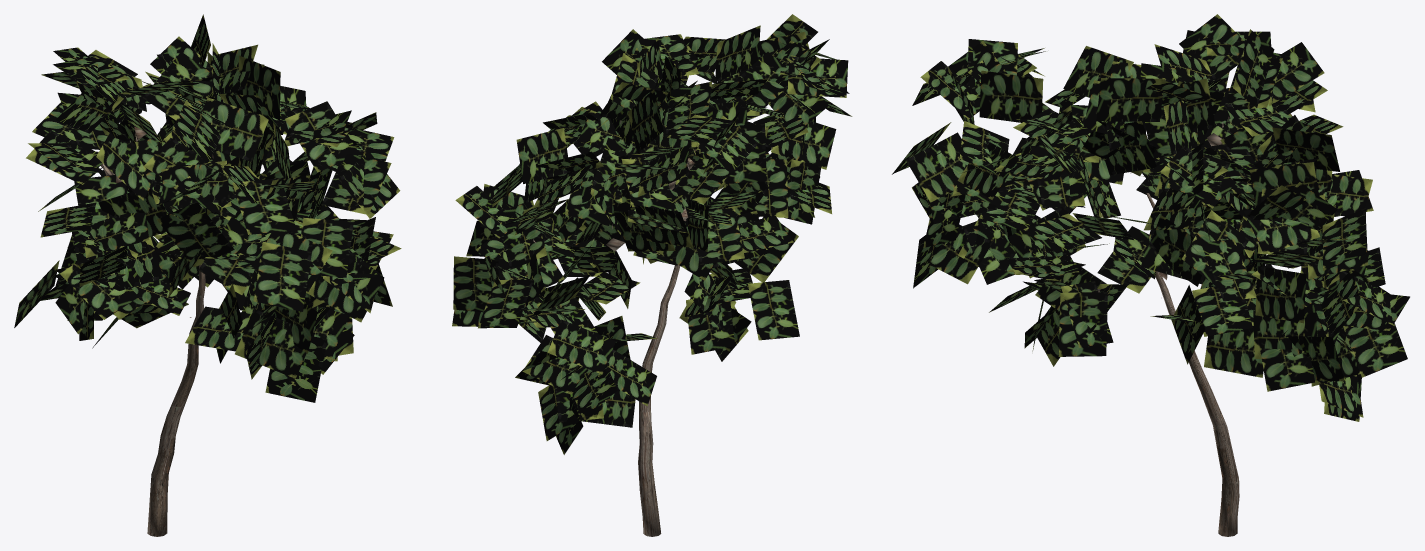
The model's file is tree-open-02-lod1.glb.
The picture shows the model from 3 angles, left to right: view 1: azimuth 30°, elevation 25°; view 2: azimuth 150°, elevation 25°; view 3: azimuth 270°, elevation 25°; orthographic projection. The views are drawn at different scales.
Parts seen in each view (by area): view 1: tree-open-02_MATERIAL_BATCH; view 2: tree-open-02_MATERIAL_BATCH; view 3: tree-open-02_MATERIAL_BATCH.
Part boxes in pixels (x1,y1,x2,y2): tree-open-02_MATERIAL_BATCH: [14, 14, 401, 536]; tree-open-02_MATERIAL_BATCH: [452, 14, 852, 536]; tree-open-02_MATERIAL_BATCH: [892, 14, 1409, 536].
Size of the model in its own units: 5.46 by 8 by 7.57.
3 materials, 3 textured.
